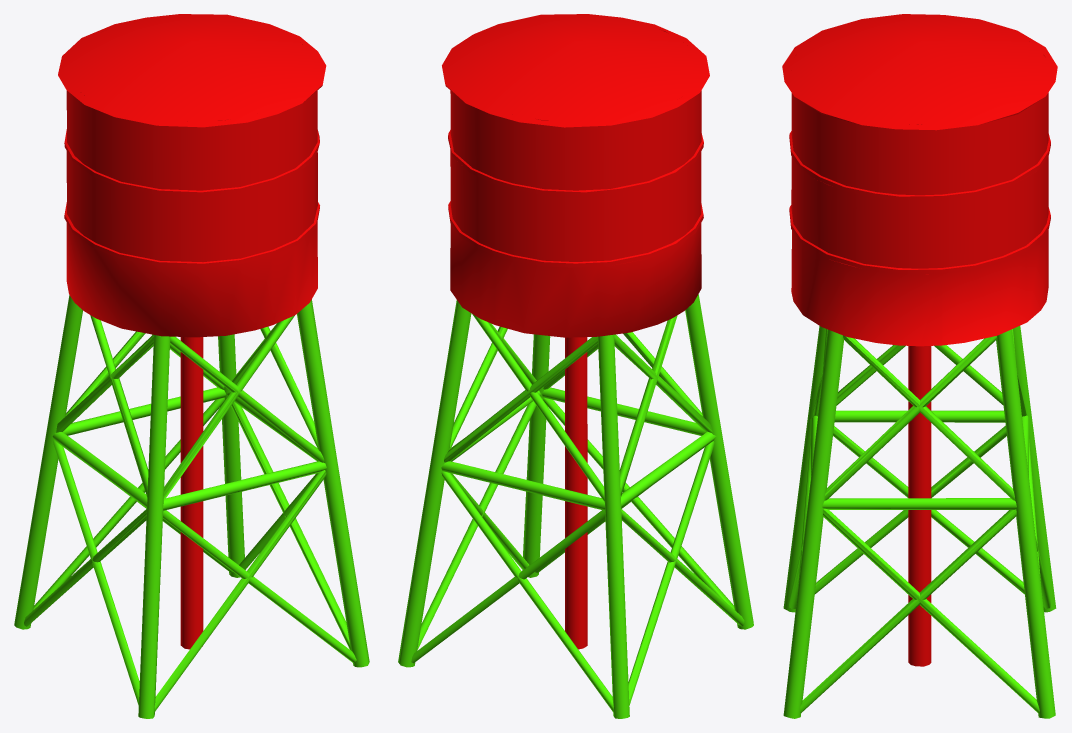
File: Water_Tanker.fbx
3 views of the same model, side by side, from view 1: azimuth 30°, elevation 25°; view 2: azimuth 150°, elevation 25°; view 3: azimuth 270°, elevation 25° (orthographic). The views are drawn at different scales.
Visible parts, largest first — view 1: Part_15, Part_12, Part_9, Part_10, Part_13, Part_14, Part_2, Part_4, Part_5, Part_11, Part_1, Part_8 (+3 smaller); view 2: Part_15, Part_13, Part_11, Part_9, Part_12, Part_14, Part_3, Part_4, Part_7, Part_10, Part_1, Part_8 (+3 smaller); view 3: Part_15, Part_11, Part_10, Part_9, Part_1, Part_14, Part_6, Part_4, Part_13, Part_12, Part_8, Part_2 (+1 smaller).
Part boxes in pixels (box(x1,y1,x2,y2)): Part_15: box(58, 14, 326, 337); Part_12: box(138, 335, 170, 718); Part_9: box(180, 337, 203, 649); Part_10: box(297, 299, 369, 667); Part_13: box(14, 295, 82, 629); Part_14: box(52, 387, 326, 510); Part_2: box(154, 470, 356, 711); Part_4: box(24, 440, 146, 704); Part_5: box(163, 315, 324, 500); Part_11: box(218, 334, 244, 577); Part_1: box(231, 402, 350, 650); Part_8: box(56, 315, 153, 496); Part_15: box(442, 14, 709, 337); Part_13: box(598, 334, 629, 718); Part_11: box(398, 300, 471, 667); Part_9: box(565, 337, 587, 649); Part_12: box(685, 294, 753, 629); Part_14: box(441, 387, 716, 510); Part_3: box(411, 471, 613, 712); Part_4: box(621, 441, 744, 705); Part_7: box(444, 314, 604, 501); Part_10: box(522, 334, 550, 577); Part_1: box(417, 401, 536, 649); Part_8: box(614, 315, 712, 496); Part_15: box(782, 14, 1057, 346); Part_11: box(996, 329, 1055, 718); Part_10: box(783, 329, 843, 718); Part_9: box(908, 346, 931, 666); Part_1: box(800, 508, 1039, 712); Part_14: box(810, 410, 1028, 509); Part_6: box(824, 335, 1015, 500); Part_4: box(814, 426, 1024, 594); Part_13: box(1013, 326, 1056, 612); Part_12: box(783, 326, 825, 612); Part_8: box(836, 345, 1003, 405); Part_2: box(789, 436, 810, 608).
Bounding box in the file's own units: 472 × 1176 × 473.
